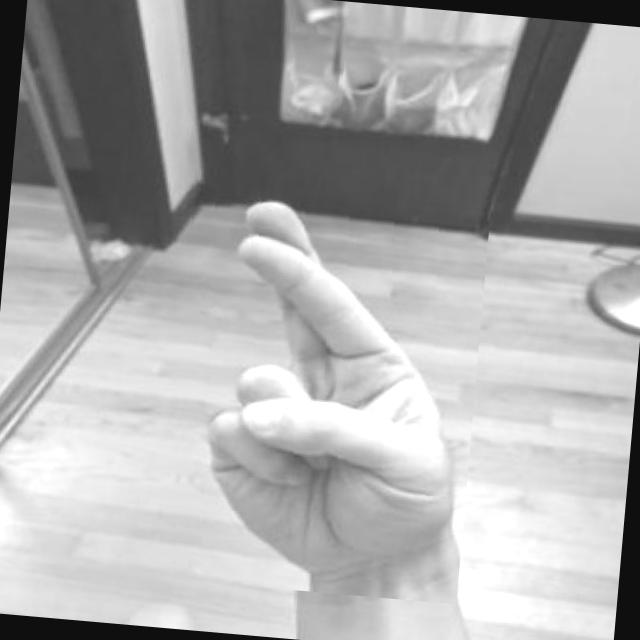R: (158, 166, 492, 604)
